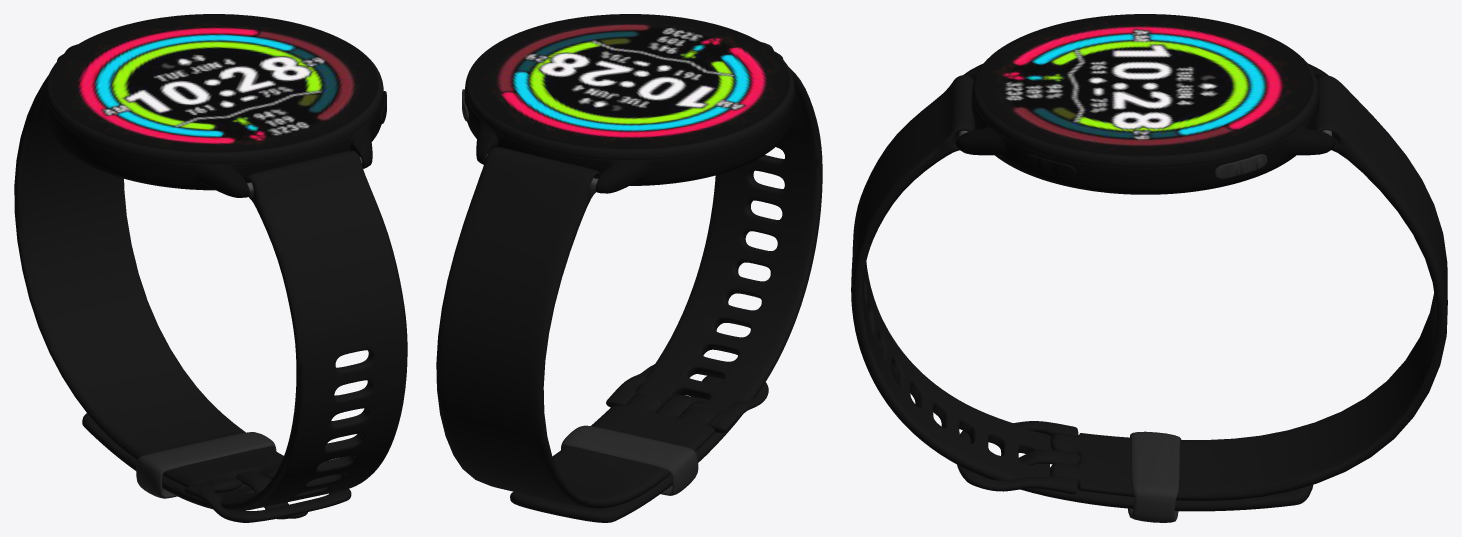
File: sf_garmin_watch.glb
The picture shows the model from 3 angles, left to right: view 1: azimuth 30°, elevation 25°; view 2: azimuth 150°, elevation 25°; view 3: azimuth 270°, elevation 25°; orthographic projection. The views are drawn at different scales.
Parts seen in each view (by area): view 1: Object_2; view 2: Object_2; view 3: Object_2.
Boxes of the visible parts, x1,y1,x2,y2 form: Object_2: (14,14,407,522); Object_2: (436,14,822,522); Object_2: (851,14,1447,522).
Bounding box in the file's own units: 0.0816 × 0.1075 × 0.14.
1 material, 1 textured.
